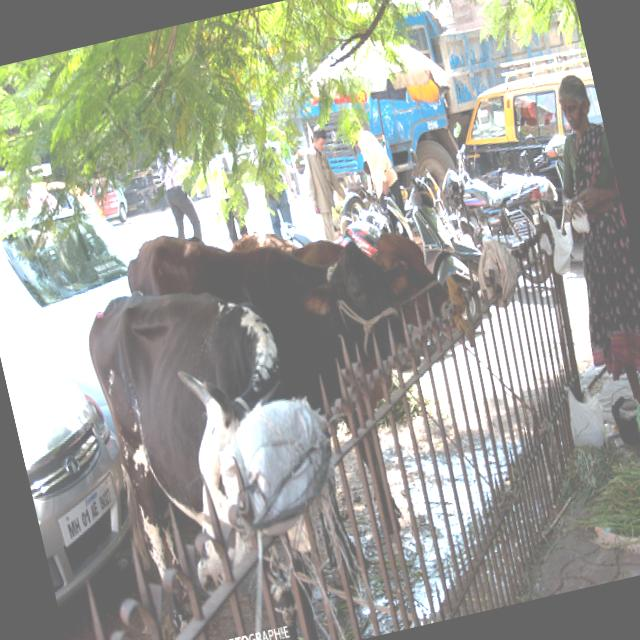Vehicle: (276, 0, 609, 218), (0, 165, 178, 445), (0, 332, 152, 593), (337, 168, 490, 348), (428, 107, 560, 297), (444, 61, 614, 206), (488, 126, 586, 240), (332, 195, 432, 293), (422, 164, 484, 277), (46, 170, 106, 230), (84, 173, 131, 230)
